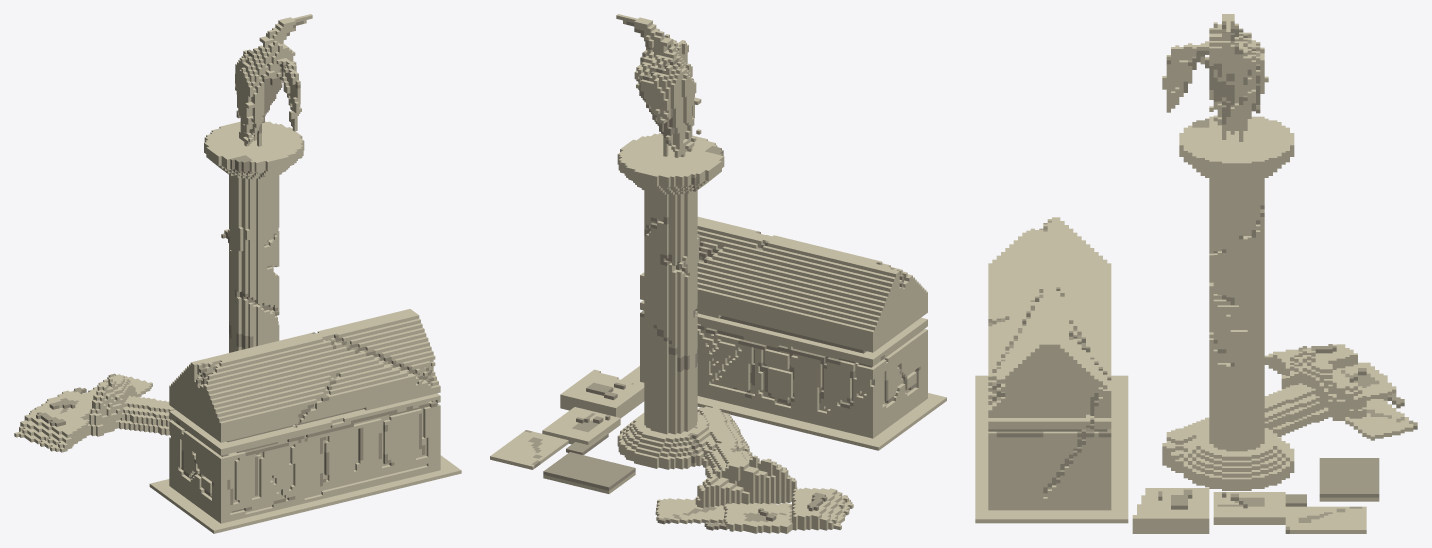
The picture shows the model from 3 angles, left to right: view 1: azimuth 30°, elevation 25°; view 2: azimuth 150°, elevation 25°; view 3: azimuth 270°, elevation 25°; orthographic projection. The views are drawn at different scales.
Parts seen in each view (by area): view 1: VOX; view 2: VOX; view 3: VOX.
Boxes of the visible parts, bbox=[...] form: VOX: bbox=[14, 14, 461, 533]; VOX: bbox=[490, 14, 946, 533]; VOX: bbox=[975, 14, 1417, 533].
Bounding box in the file's own units: 0.102 × 0.121 × 0.104.
